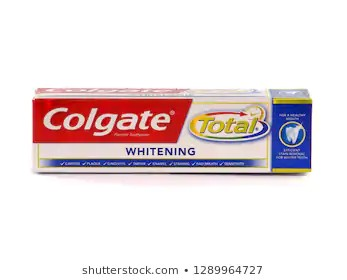colgate-medium: (32, 88, 313, 174)
